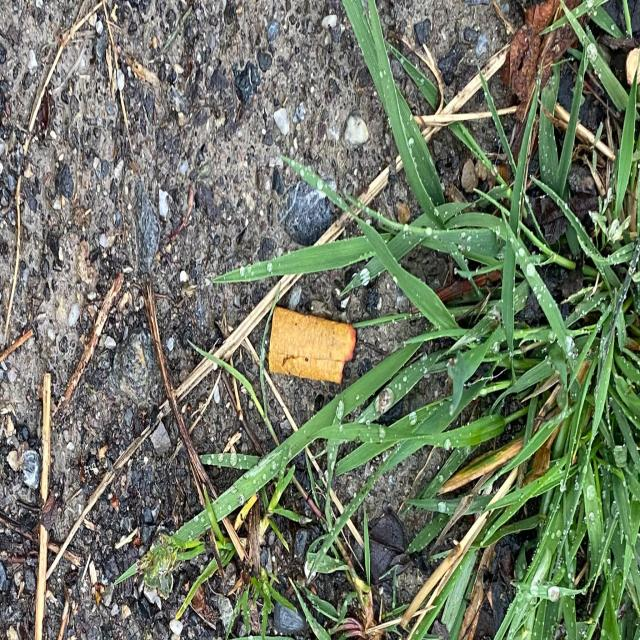other waste: (268, 304, 360, 386)
